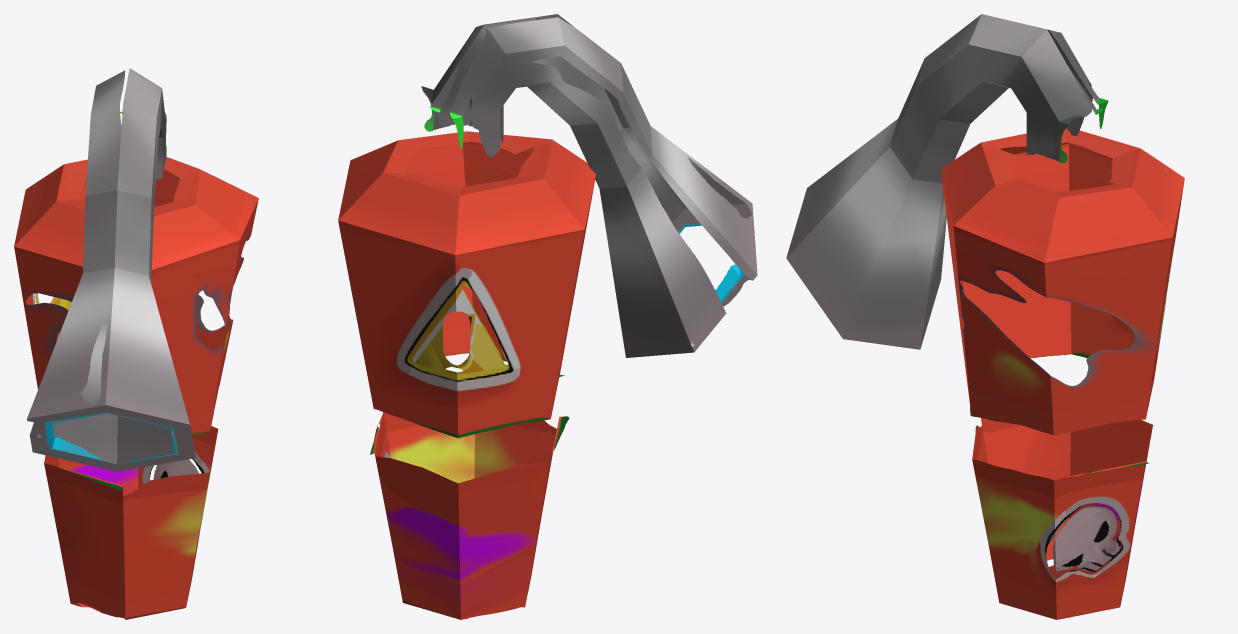
Rendered from extintorr rotado.fbx.
The picture shows the model from 3 angles, left to right: view 1: azimuth 30°, elevation 25°; view 2: azimuth 150°, elevation 25°; view 3: azimuth 270°, elevation 25°; orthographic projection. The views are drawn at different scales.
Parts seen in each view (by area): view 1: Circle; view 2: Circle; view 3: Circle.
Part boxes in pixels (x1,y1,x2,y2): Circle: (14,68,258,619); Circle: (338,14,757,619); Circle: (786,14,1184,619).
Bounding box in the file's own units: 0.8026 × 1.32 × 0.9416.
Materials: 1 (1 with a texture image).
